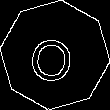O_N: (30, 27, 80, 83)
